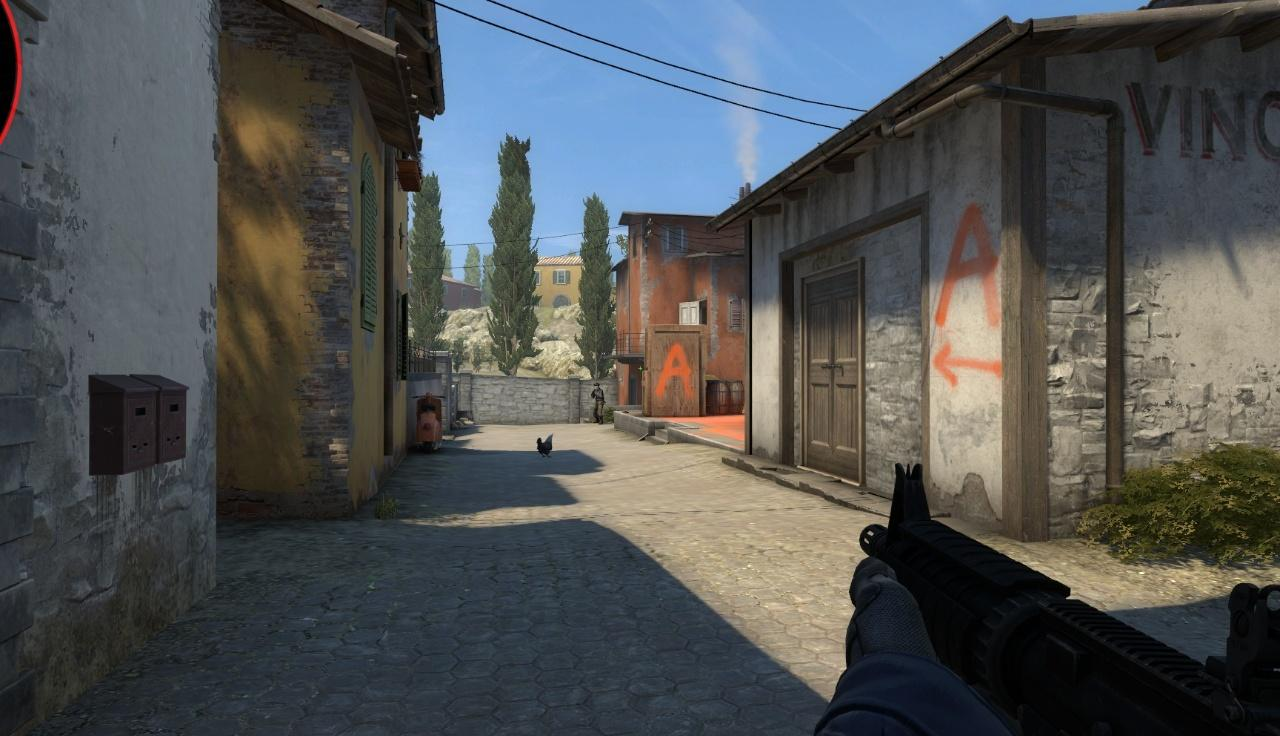rifle: (855, 461, 1280, 736)
tt: (593, 383, 604, 424)
